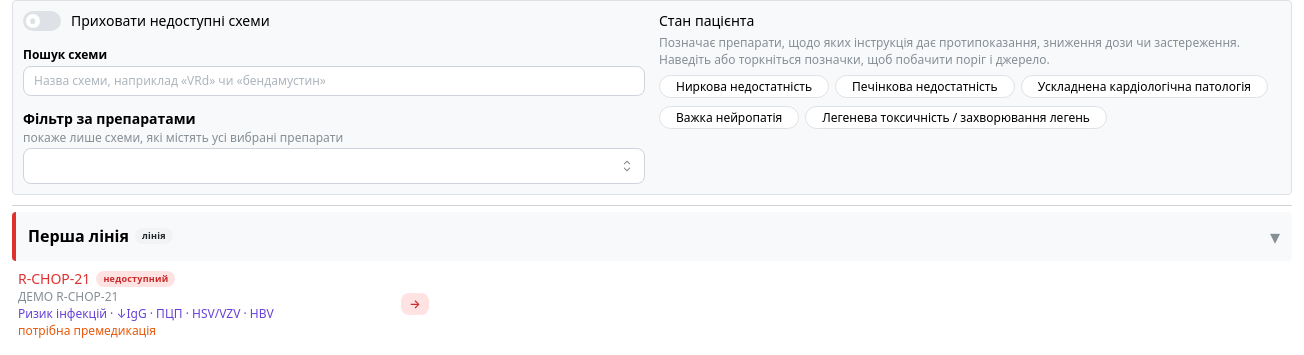
Test: TreatmentTree › hides the regimens that cannot be obtained when asked, and says how many
The width and height of the screenshot is (1304, 355).
Check: the link "R-CHOP-21" is shown, box left=18, top=269, right=90, bottom=289
Click the switch labelled "Приховати недоступні схеми" at (146, 21), box left=23, top=11, right=270, bottom=31
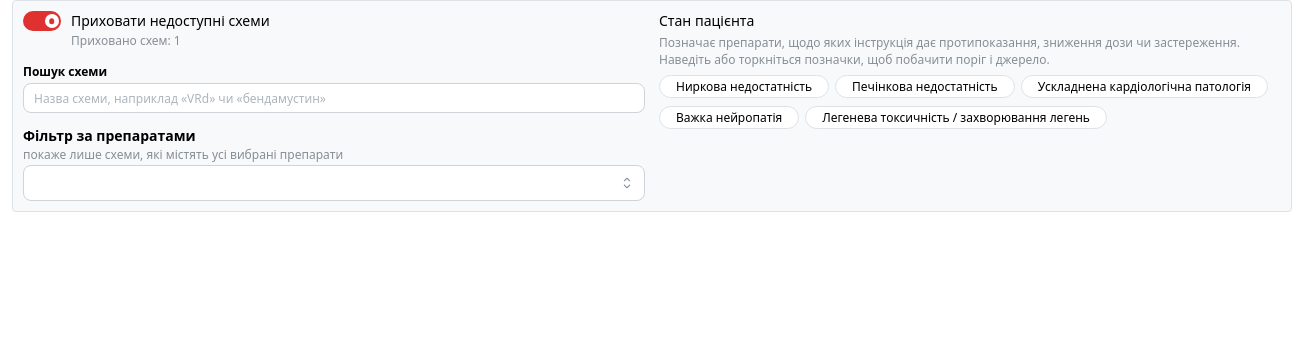
Check: the link "R-CHOP-21" is gone
Check: the text "Приховано схем: 1" is shown, box left=71, top=32, right=181, bottom=49
